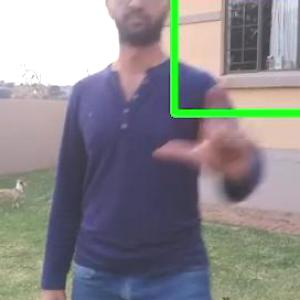land_hand: (146, 76, 262, 200)
